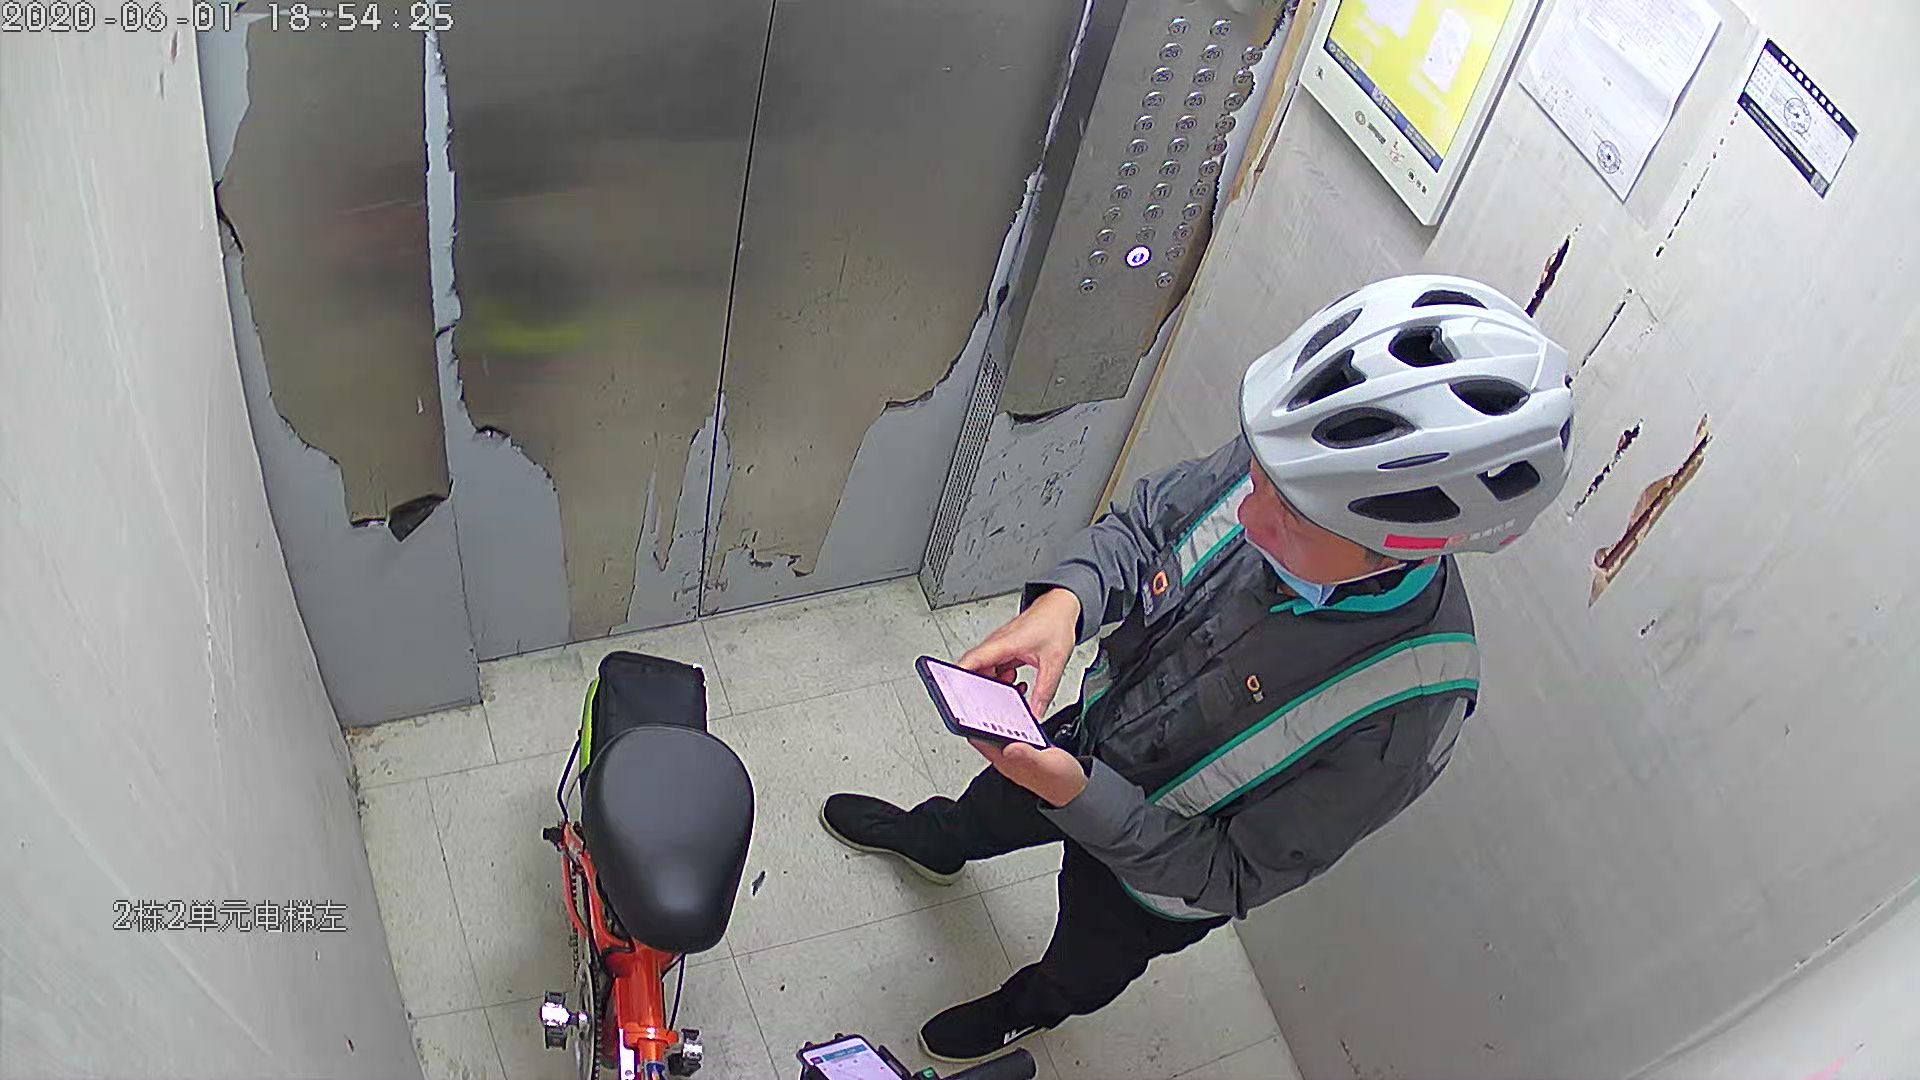Electric-bicycle: (530, 649, 764, 1079)
